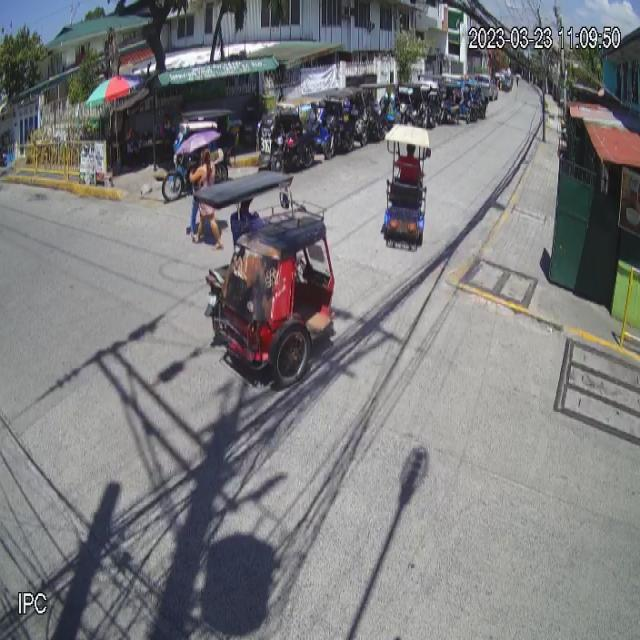Tricycle: (192, 168, 336, 390)
